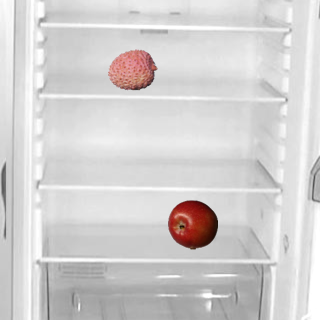Apple Braeburn: (167, 199, 217, 249)
Lychee: (107, 44, 157, 94)
